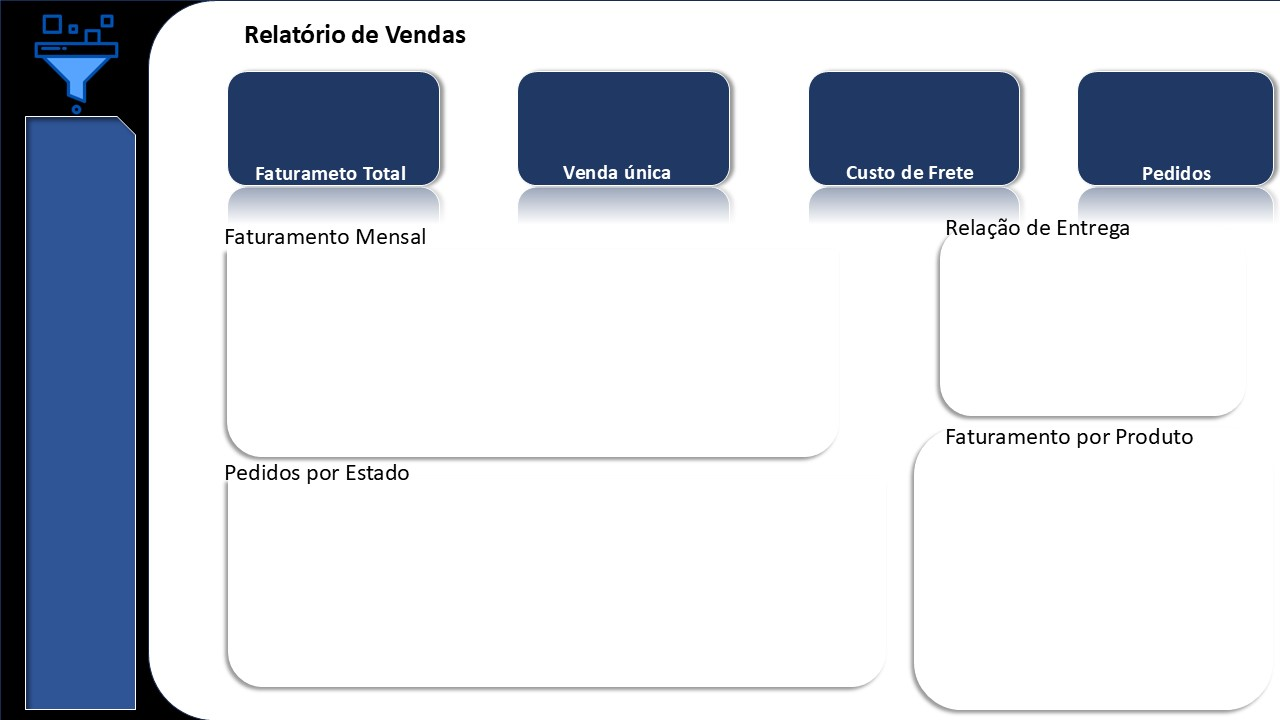

This screenshot's page, from the dashboard's own definition file:
{"tool":"powerbi","page":{"name":"Página 1","canvas":[1280,720],"ordinal":0},"visuals":[{"type":"card","title":"Faturamento total","fields":{"Values":["Sum(Tabela1.TOTAL GERAL)"]},"box":[219.1,85.9,227.6,81.1],"z":0},{"type":"card","title":"pedidos","fields":{"Values":["CountNonNull(Tabela1.NÚMERO PEDIDO)"]},"box":[1077.3,69,185.2,119.8],"z":1000},{"type":"card","title":"Venda unica","fields":{"Values":["Sum(Tabela1.VENDA)"]},"box":[497.5,85.9,260.3,83.5],"z":2000},{"type":"card","title":"Custo do Frete","fields":{"Values":["Sum(Tabela1.FRETE)"]},"box":[757.8,67.8,311.1,121],"z":3000},{"type":"pieChart","fields":{"Category":["Tabela1.STATUS DE ENTREGA"],"Y":["CountNonNull(Tabela1.STATUS DE ENTREGA)"]},"box":[920,226.4,342.6,194.9],"z":4000},{"type":"advancedSlicerVisual","fields":{"Values":["Tabela1.DESTINO"]},"box":[30.3,117.4,111.4,588.3],"z":5000},{"type":"barChart","fields":{"Category":["Tabela1.PRODUTO"],"Y":["Sum(Tabela1.TOTAL GERAL)"]},"box":[903,433.4,376.5,284.5],"z":6000},{"type":"columnChart","fields":{"Y":["Sum(Tabela1.TOTAL GERAL)"],"Category":["Tabela1.DATA PEDIDO.Variation.Hierarquia de datas.Mês"]},"box":[228.8,248.2,629.5,215.5],"z":7000},{"type":"areaChart","fields":{"Y":["CountNonNull(Tabela1.NÚMERO PEDIDO)"],"Category":["Tabela1.DATA PEDIDO.Variation.Hierarquia de datas.Mês"]},"box":[219.1,463.6,659.7,223.9],"z":8000}]}

Visuals, with their boxes in screenshot pixels (x1, y1, x2, y2), scaled from the page's 1280x720 canvas onto the 1280x720 screenshot:
"Faturamento total" card: (219, 86, 447, 167)
"pedidos" card: (1077, 69, 1262, 189)
"Venda unica" card: (498, 86, 758, 169)
"Custo do Frete" card: (758, 68, 1069, 189)
pieChart - Tabela1.STATUS DE ENTREGA x CountNonNull(Tabela1.STATUS DE ENTREGA): (920, 226, 1263, 421)
advancedSlicerVisual - Tabela1.DESTINO: (30, 117, 142, 706)
barChart - Tabela1.PRODUTO x Sum(Tabela1.TOTAL GERAL): (903, 433, 1279, 718)
columnChart - Sum(Tabela1.TOTAL GERAL) x Tabela1.DATA PEDIDO.Variation.Hierarquia de datas.Mês: (229, 248, 858, 464)
areaChart - CountNonNull(Tabela1.NÚMERO PEDIDO) x Tabela1.DATA PEDIDO.Variation.Hierarquia de datas.Mês: (219, 464, 879, 688)
